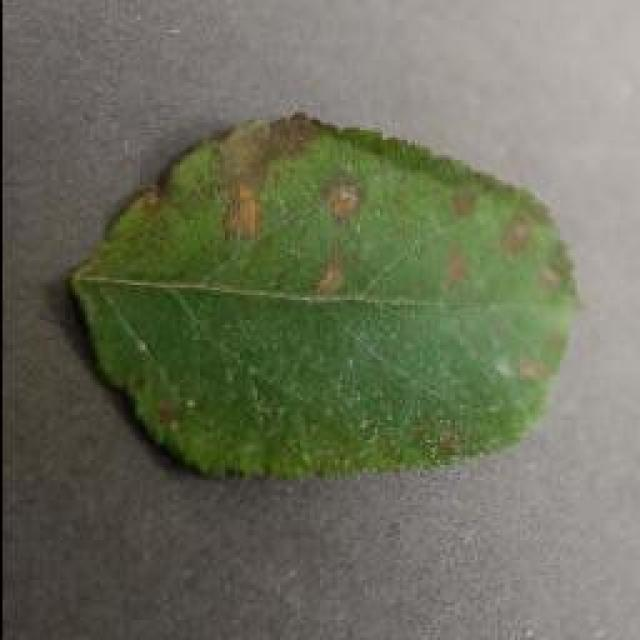apple healthy: (65, 108, 583, 482)
